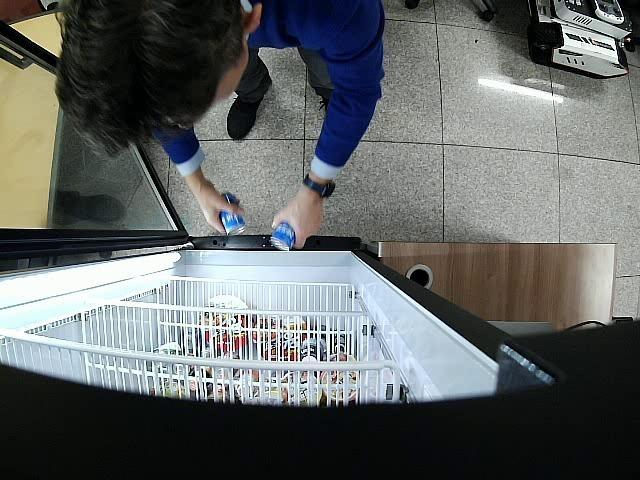15_letsbe: (220, 192, 245, 236), (272, 222, 295, 250)
